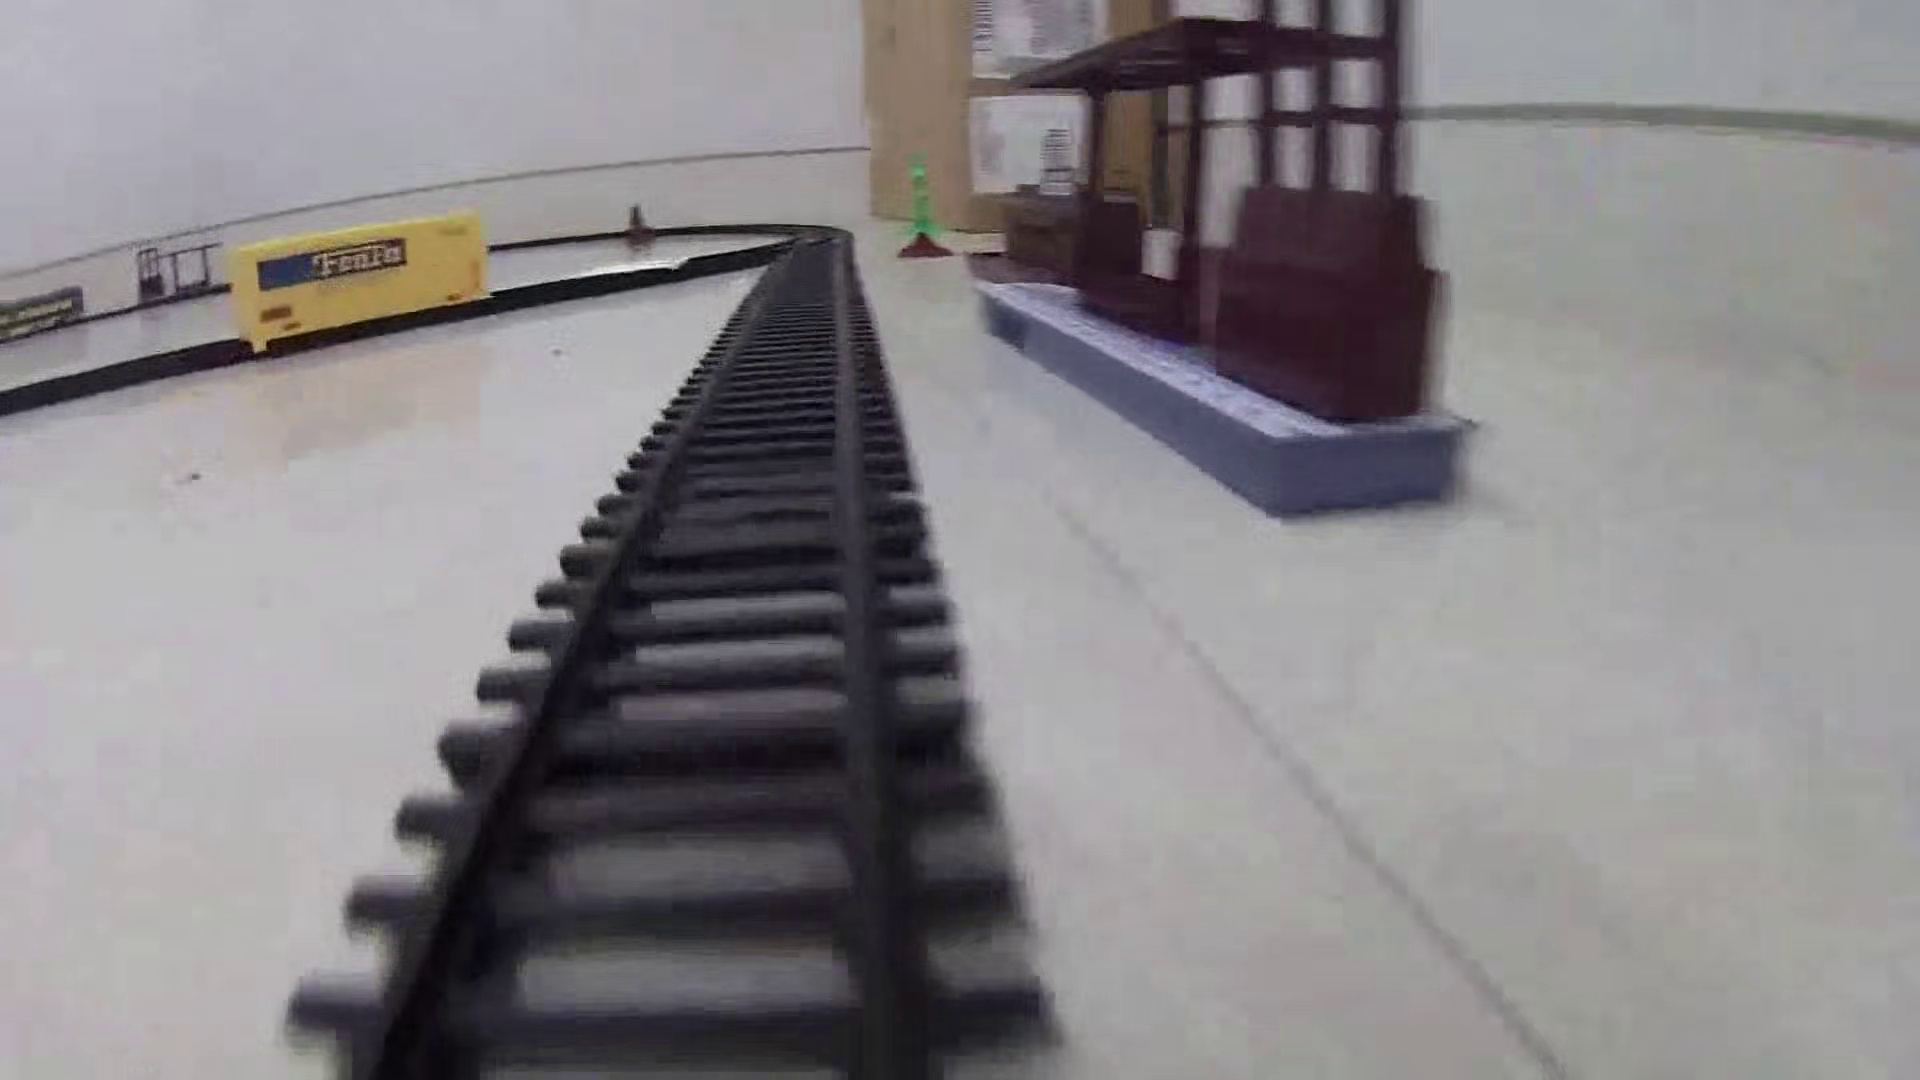tree: (894, 164, 960, 262)
